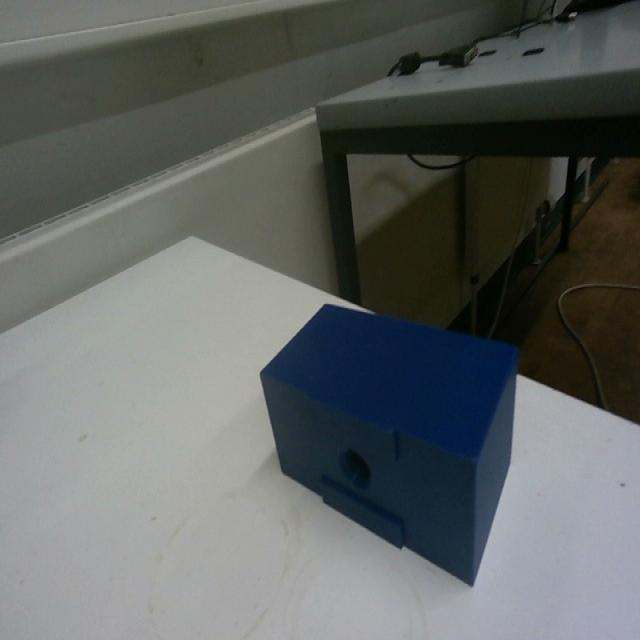Blue Cuboid: (257, 297, 521, 587)
